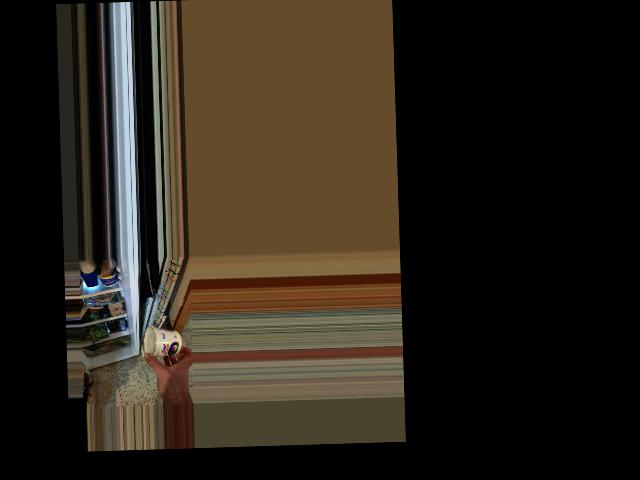cotage: (144, 325, 182, 358)
